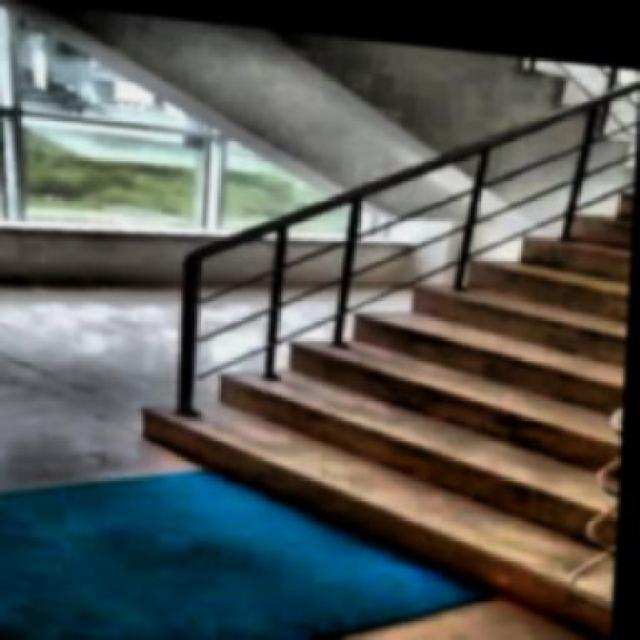stair: (94, 54, 637, 631)
